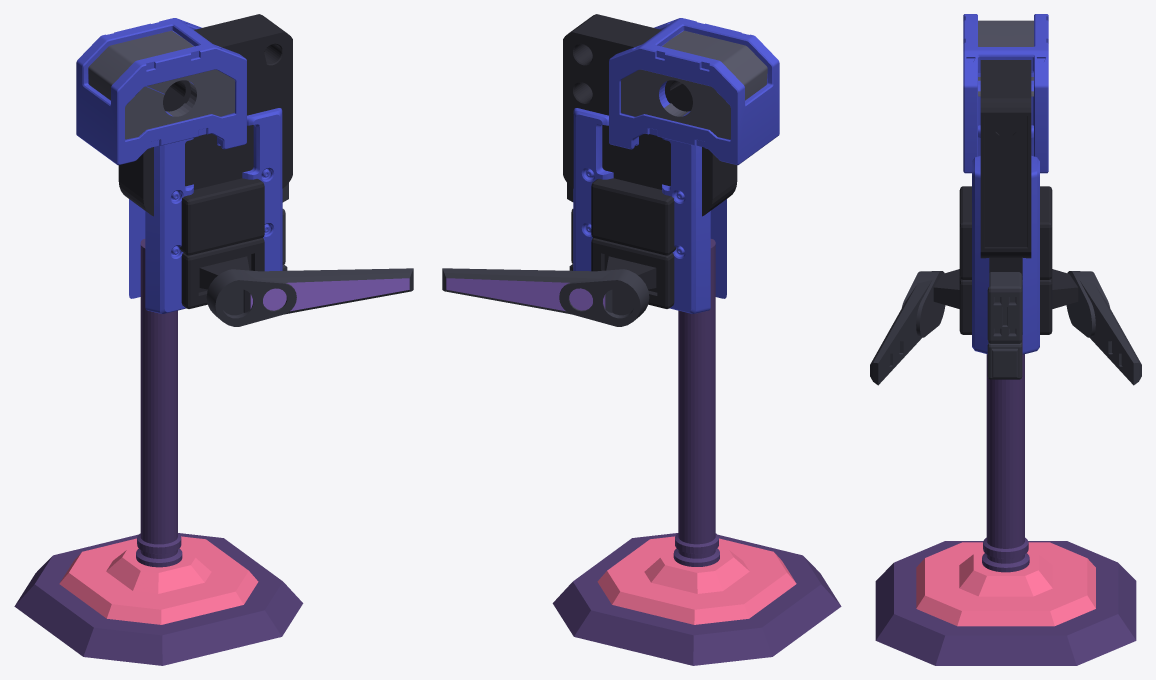
Rendered from montador_robots.fbx.
3 renders of one model, left to right at view 1: azimuth 30°, elevation 25°; view 2: azimuth 150°, elevation 25°; view 3: azimuth 270°, elevation 25°, orthographic. The views are drawn at different scales.
Parts seen in each view (by area): view 1: 178_Hard_Surface_Mesh_375.006, Cube.001, 178_Hard_Surface_Mesh_375.007; view 2: 178_Hard_Surface_Mesh_375.006, Cube.001, 178_Hard_Surface_Mesh_375.008; view 3: Cube.001, 178_Hard_Surface_Mesh_375.006, 178_Hard_Surface_Mesh_375.007, 178_Hard_Surface_Mesh_375.008.
Part boxes in pixels (<box>): 178_Hard_Surface_Mesh_375.006: <box>76,14,292,313</box>; Cube.001: <box>14,239,303,665</box>; 178_Hard_Surface_Mesh_375.007: <box>206,268,413,326</box>; 178_Hard_Surface_Mesh_375.006: <box>563,14,779,313</box>; Cube.001: <box>552,239,841,665</box>; 178_Hard_Surface_Mesh_375.008: <box>442,268,649,326</box>; Cube.001: <box>875,335,1136,665</box>; 178_Hard_Surface_Mesh_375.006: <box>933,14,1078,379</box>; 178_Hard_Surface_Mesh_375.007: <box>870,271,945,385</box>; 178_Hard_Surface_Mesh_375.008: <box>1066,271,1141,385</box>.
Size of the model in its own units: 404 by 720 by 307.
